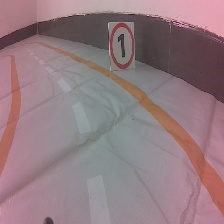limit: (106, 21, 139, 72)
